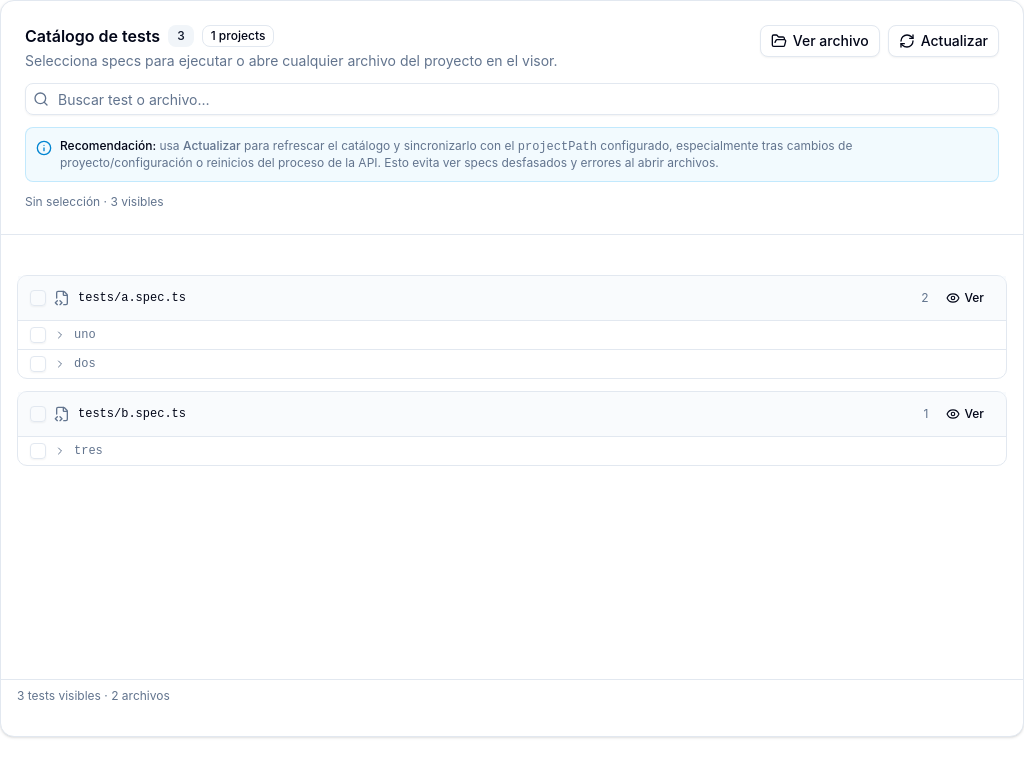
it: TestExplorer › filtra la lista existente sin perder el contenido final
The width and height of the screenshot is (1024, 768).
Type "tres" into the field with placeholder "Buscar test o archivo…". click: {"x": 512, "y": 99}
box: x1=25 y1=83 x2=999 y2=115
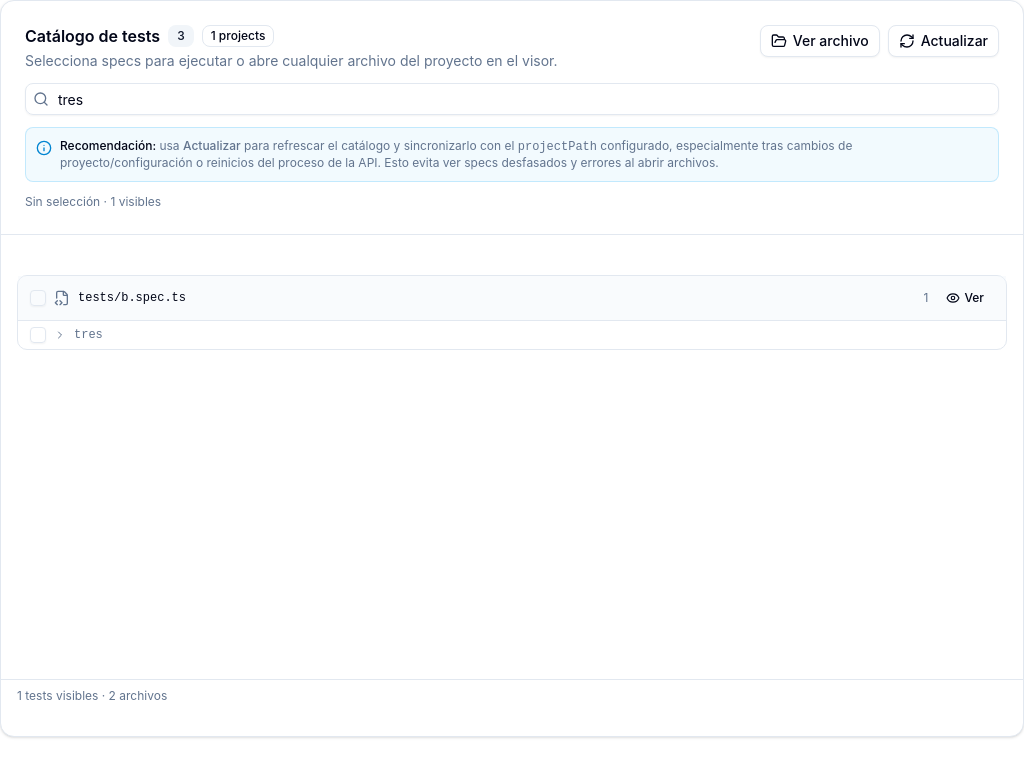
Expected: the text "tres" is shown, x1=74 y1=328 x2=103 y2=342
Expected: the text "uno" is gone
Clear the field with placeholder "Buscar test o archivo…". click: {"x": 512, "y": 99}
box: x1=25 y1=83 x2=999 y2=115
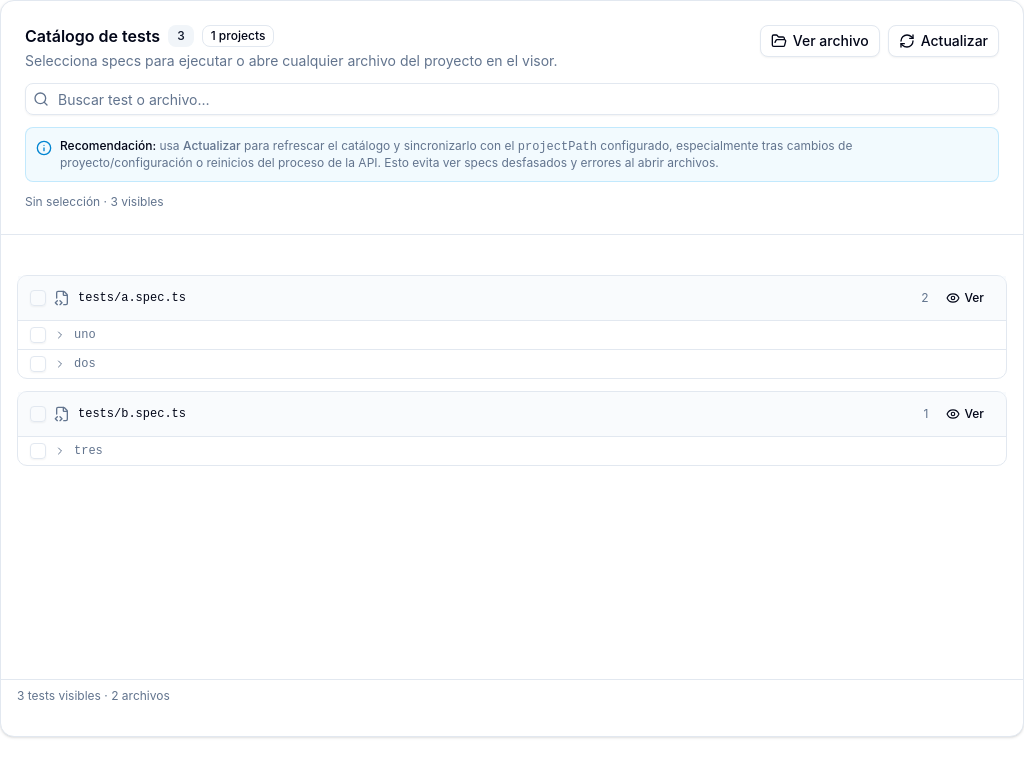
Expected: the text "uno" is shown, x1=74 y1=328 x2=96 y2=342
Expected: the text "3 tests visibles · 2 archivos" is shown, x1=1 y1=679 x2=1023 y2=712
